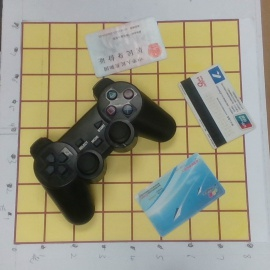card: (136, 152, 225, 237), (177, 63, 255, 149), (84, 16, 168, 78)
remote: (29, 77, 176, 225)
